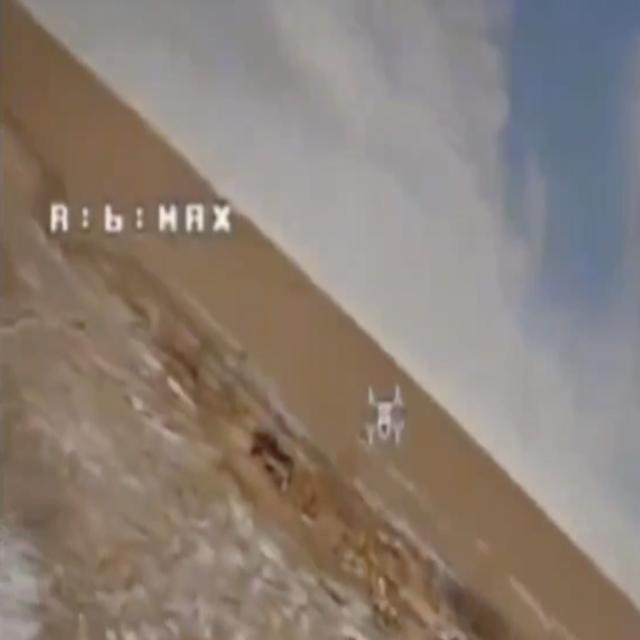vehicle: (248, 427, 298, 492)
